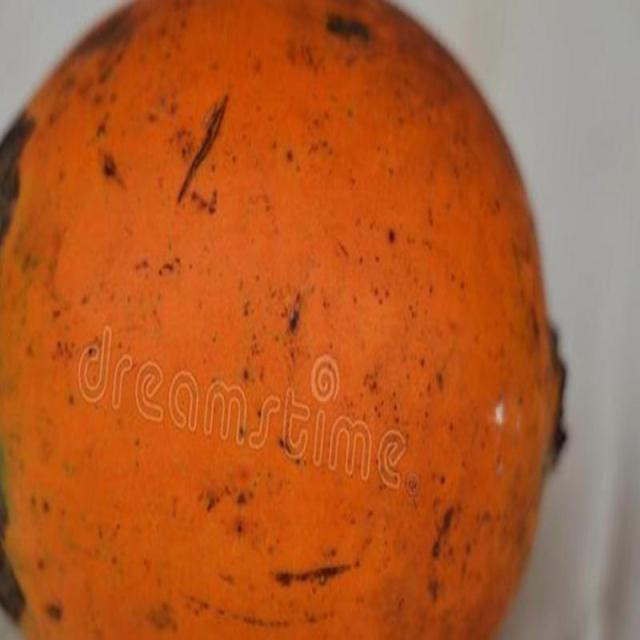good: (0, 0, 567, 639)
